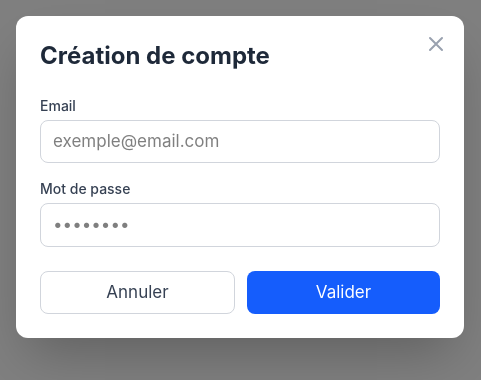
Scenario: RegisterModal › affiche le texte de chargement sur le bouton de soumission pendant le chargement
The image size is (481, 380).
Type "test@example.com" into the field labelled "Email" at x=240, y=142, box left=40, top=120, right=440, bottom=163
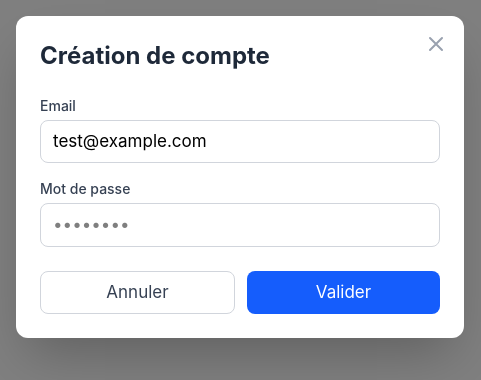
Type "password123" into the password field labelled "Mot de passe" at x=240, y=225, box left=40, top=203, right=440, bottom=247
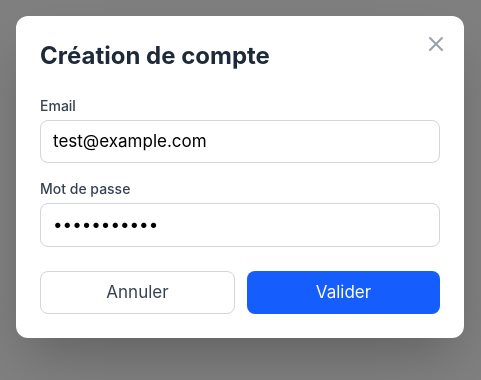
Submit the form, box left=40, top=96, right=440, bottom=314
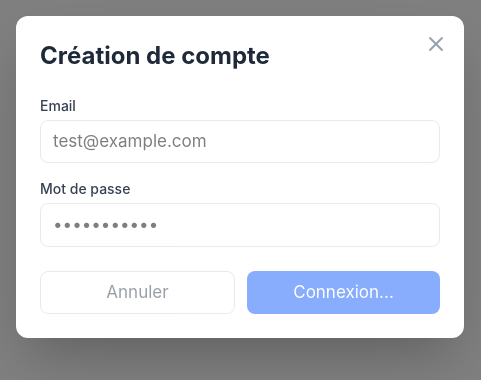
Now the button "Connexion..." is shown, box left=247, top=271, right=440, bottom=314
